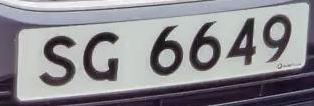4: (222, 11, 263, 74)
6: (142, 19, 190, 81), (183, 15, 228, 78)
9: (257, 9, 295, 71)
G: (77, 26, 125, 87)
S: (34, 28, 82, 91)
